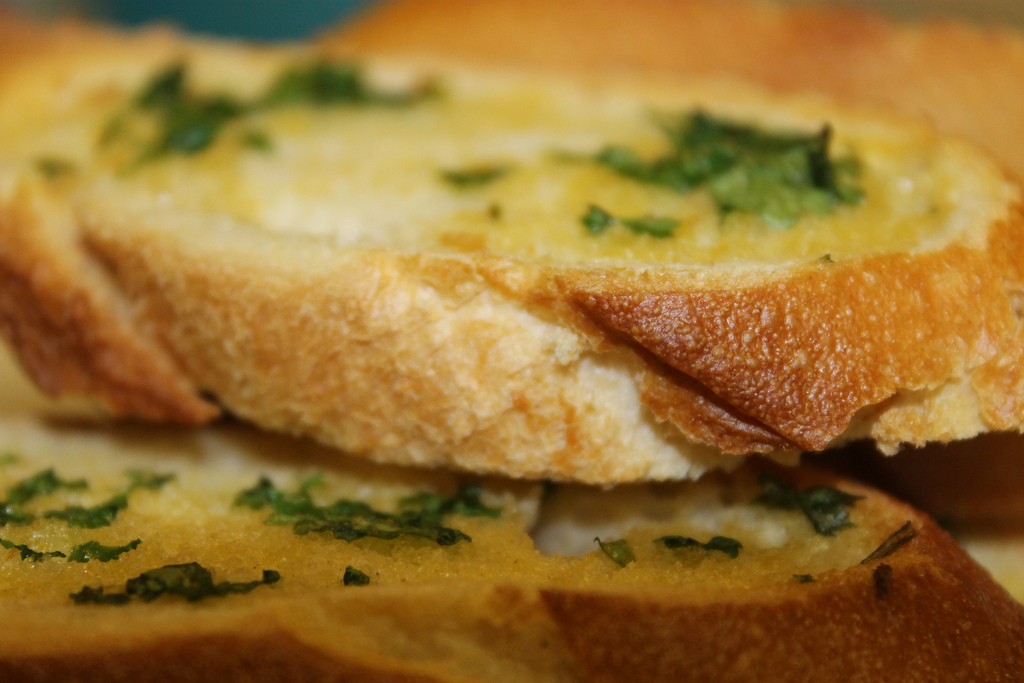slice of bread: (9, 60, 1012, 482), (12, 436, 1015, 668)
